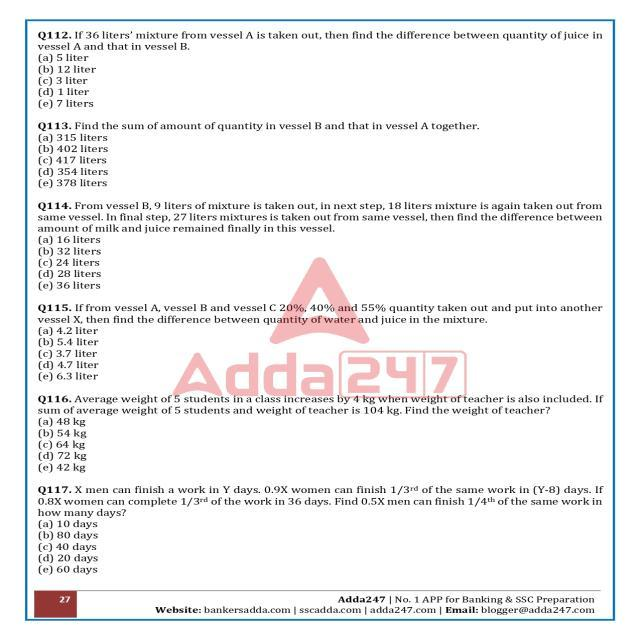Answer_Block: (24, 516, 621, 582), (27, 53, 612, 117), (22, 132, 615, 192), (32, 235, 618, 295), (26, 416, 606, 476), (24, 330, 619, 382)
Question_Answer_Block: (22, 486, 615, 584), (23, 24, 616, 117), (31, 202, 614, 294), (26, 393, 610, 475), (26, 302, 612, 382), (22, 122, 615, 190)
Question_Block: (27, 484, 612, 518), (30, 22, 616, 54), (27, 204, 614, 233), (24, 304, 617, 327), (32, 398, 616, 414), (26, 122, 614, 132)
Question_Paper_Area: (26, 26, 606, 579)
